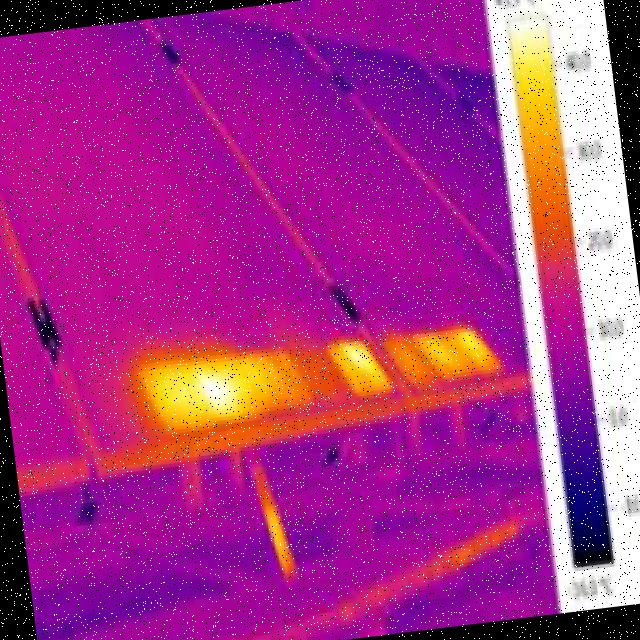Hotspot: (140, 348, 302, 429), (395, 324, 501, 387), (326, 333, 391, 402)
